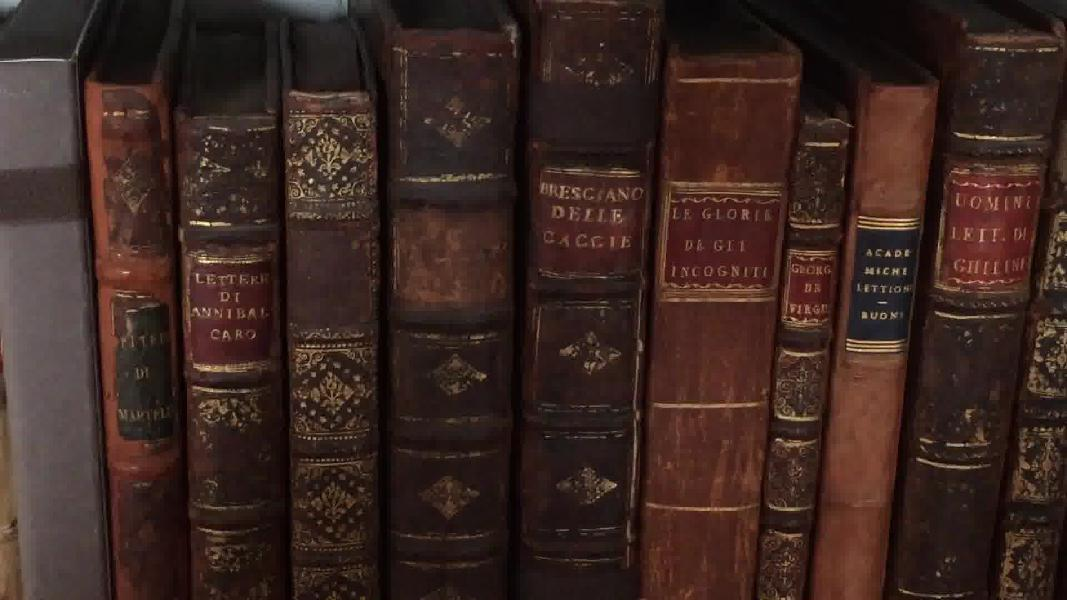Aa6-28: (81, 73, 189, 600)
Aa6-29: (169, 85, 297, 600)
Aa6-30: (275, 84, 382, 600)
Aa6-31: (385, 15, 525, 600)
Aa6-32: (521, 13, 646, 600)
Aa6-33: (646, 36, 796, 600)
Aa6-34: (763, 104, 842, 600)
Aa6-35: (809, 32, 932, 600)
Aa6-36: (896, 1, 1060, 600)
